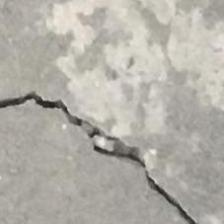Crack: (8, 89, 224, 216)
